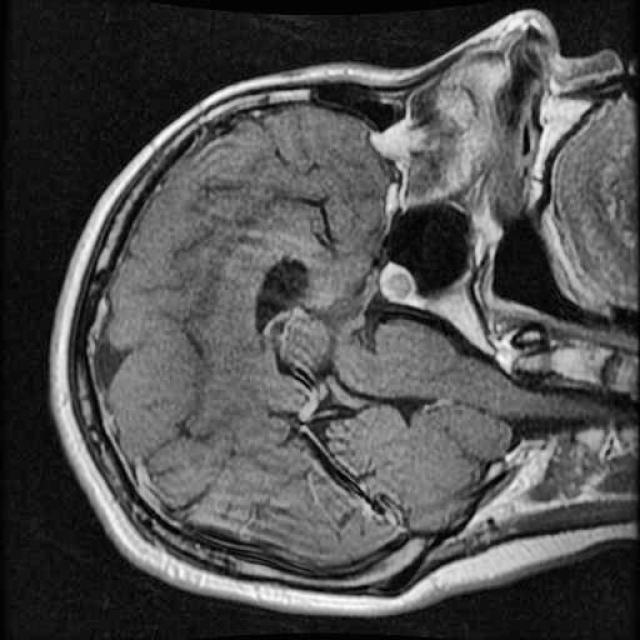Tumor: (370, 251, 424, 316)
